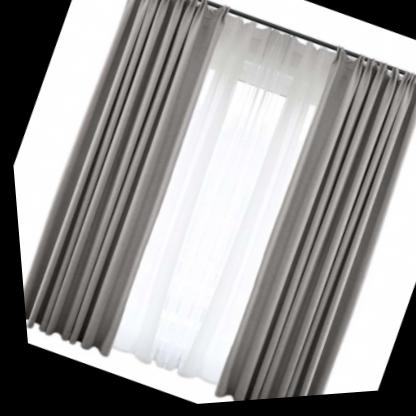Curtains: (18, 0, 416, 405)
